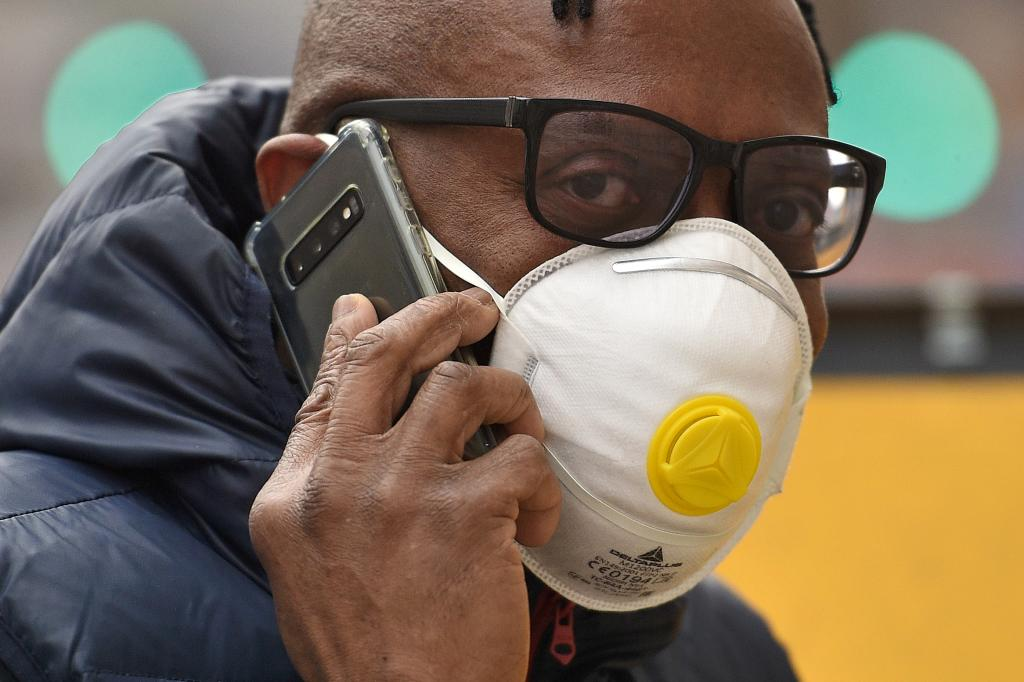with_mask: (364, 8, 887, 626)
